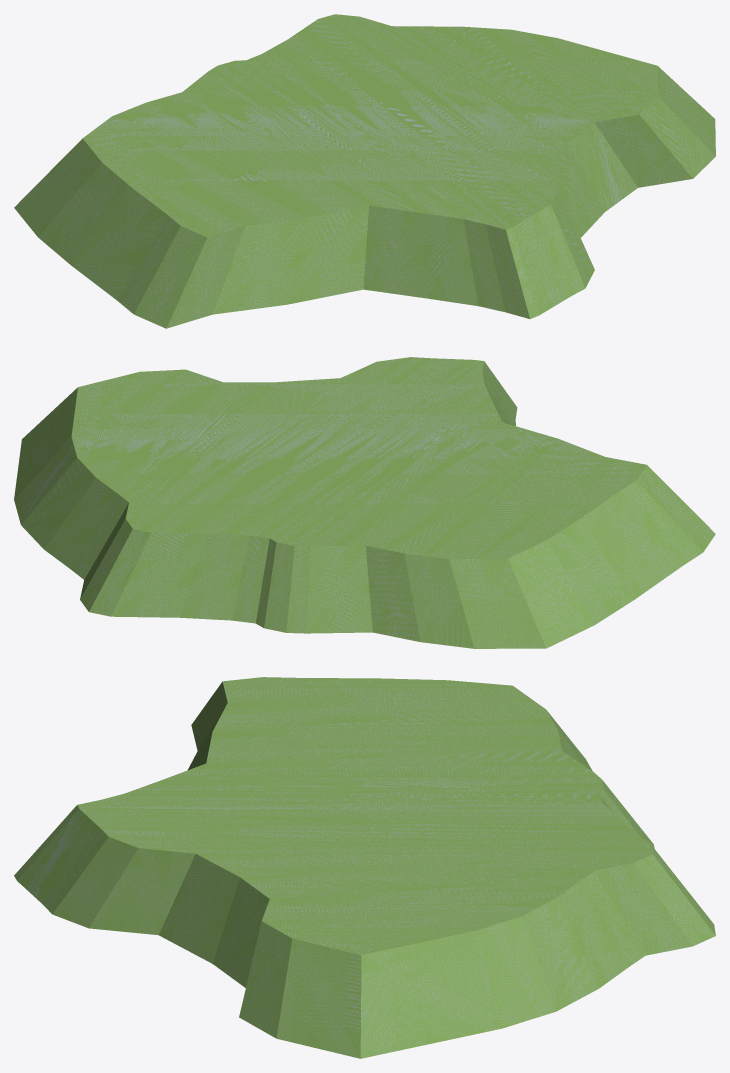
File: Mound_Grass_02.fbx
3 renders of one model, top to bottom at view 1: azimuth 30°, elevation 25°; view 2: azimuth 150°, elevation 25°; view 3: azimuth 270°, elevation 25°, orthographic. The views are drawn at different scales.
Parts seen in each view (by area): view 1: Model; view 2: Model; view 3: Model.
Part boxes in pixels (x1,y1,x2,y2): Model: [14, 14, 715, 328]; Model: [14, 357, 715, 648]; Model: [14, 677, 715, 1058].
Bounding box in the file's own units: 7819 × 788 × 6842.
